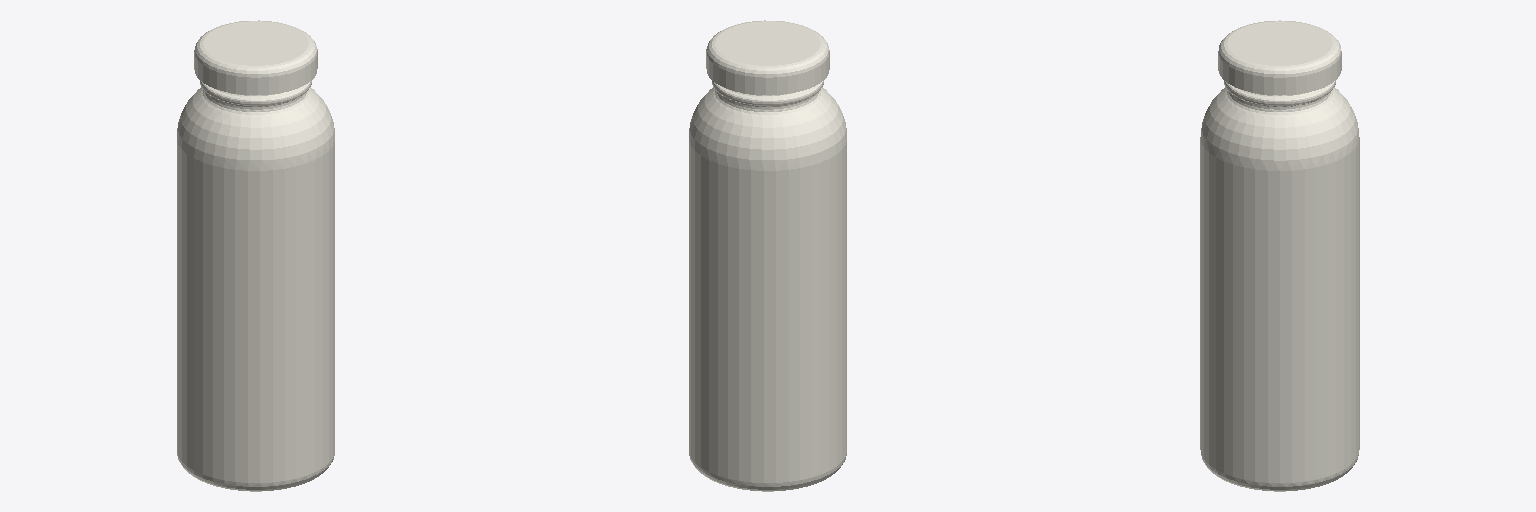
The robot description file, URDF, robot "water_bottle_445":
<?xml version="1.0"?>
<!-- Water bottle, metres, base at z = 0. -->
<robot name="water_bottle_445">
  <link name="bottle">
    <inertial>
      <origin xyz="0 0 0.0785" rpy="0 0 0" />
      <mass value="0.5" />
      <inertia ixx="0.001" iyy="0.001" izz="0.0002" ixy="0" ixz="0" iyz="0" />
    </inertial>
    <visual>
      <geometry>
        <mesh filename="visual.obj" />
      </geometry>
      <material name="plastic">
        <color rgba="0.94 0.93 0.89 1" />
      </material>
    </visual>
    <collision>
      <geometry>
        <mesh filename="collision.obj" />
      </geometry>
    </collision>
  </link>
</robot>

--- What the picture shows (computed from the rendered views, not written in the file) ---
Views: 3 orthographic renders of the robot side by side, from view 1: azimuth 30°, elevation 25°; view 2: azimuth 150°, elevation 25°; view 3: azimuth 270°, elevation 25°.
Robot: water_bottle_445 — 1 links, 0 joints (none); root link bottle; default pose: every joint at zero.
Links seen in each view (by area): view 1: bottle; view 2: bottle; view 3: bottle.
Boxes of the visible links, bbox=[...] form: bottle: bbox=[177, 20, 334, 491]; bottle: bbox=[689, 20, 846, 491]; bottle: bbox=[1200, 20, 1359, 491].
Size in the robot's own frame: 0.054 by 0.054 by 0.157 metres.
Meshes: 1 distinct files referenced, 1 mesh visuals loaded (1 OBJ).
